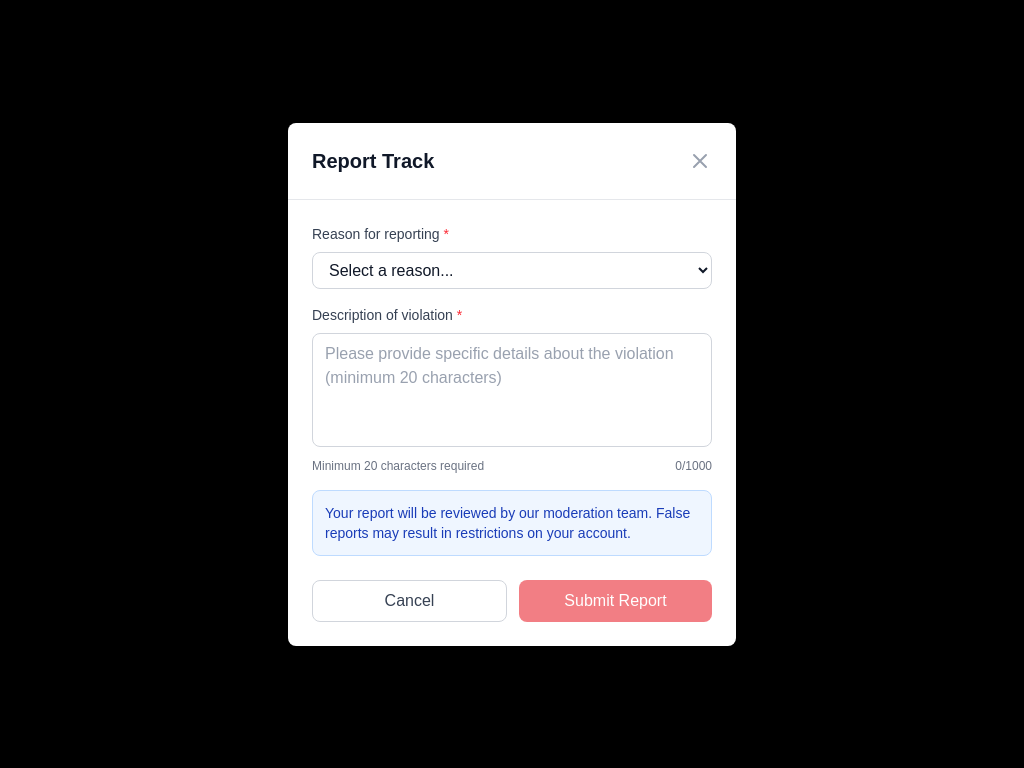
Test: ReportModal - Examples Section › Collapsible Functionality › should collapse examples when clicked again
The width and height of the screenshot is (1024, 768).
# Select a reason
Select "Spam or Misleading Content" in the dropdown labelled "Reason for reporting *" at [512, 270], box [312, 252, 712, 288]
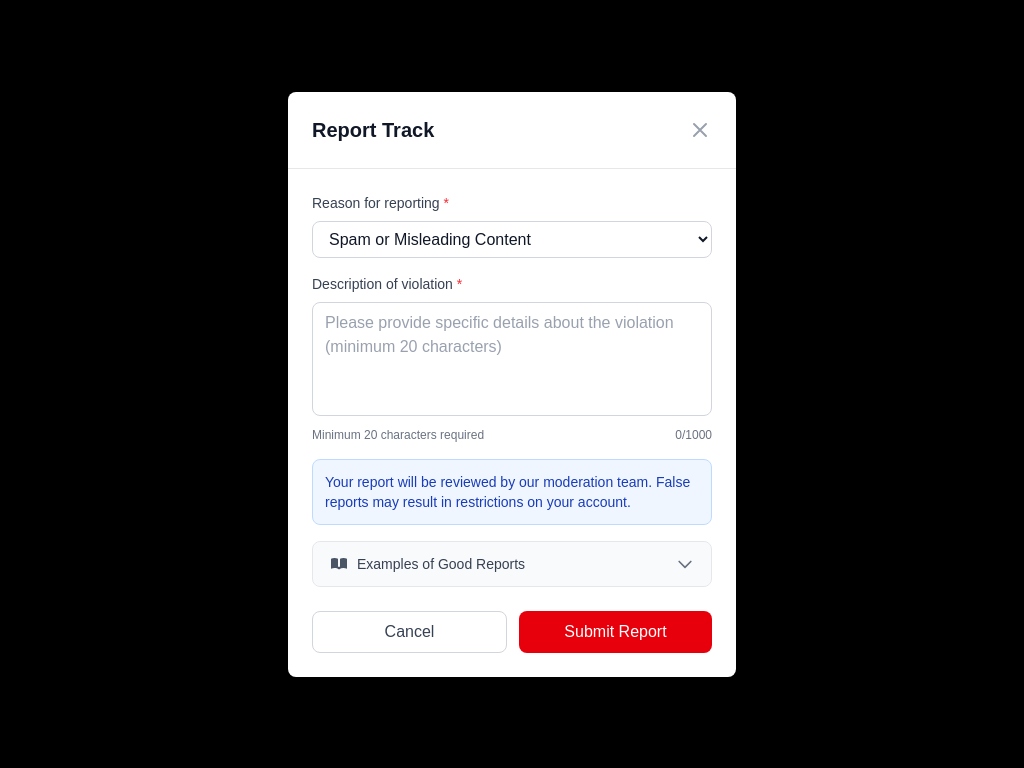
# Expand examples
Click the button "Examples of Good Reports" at [512, 564], box [313, 542, 711, 586]
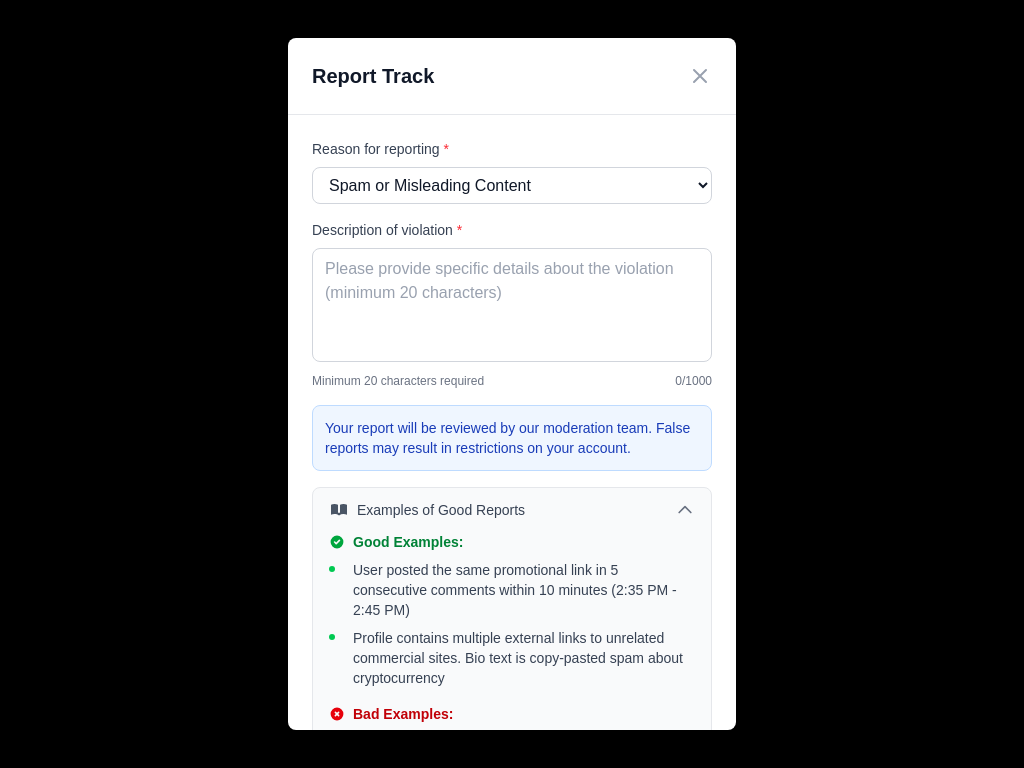
Now the text "Good Examples:" is shown, box [353, 532, 464, 552]
# Collapse examples
Click the button "Examples of Good Reports" at [512, 510], box [313, 488, 711, 532]
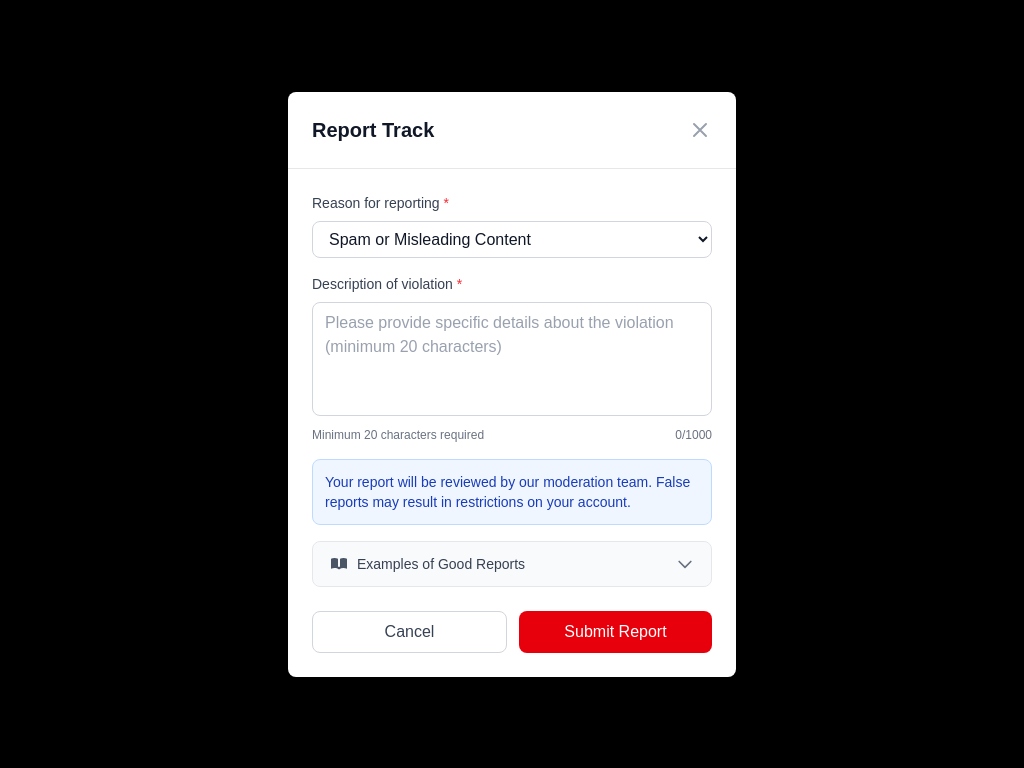
Now the text "Good Examples:" is gone
Now the text "Bad Examples:" is gone
